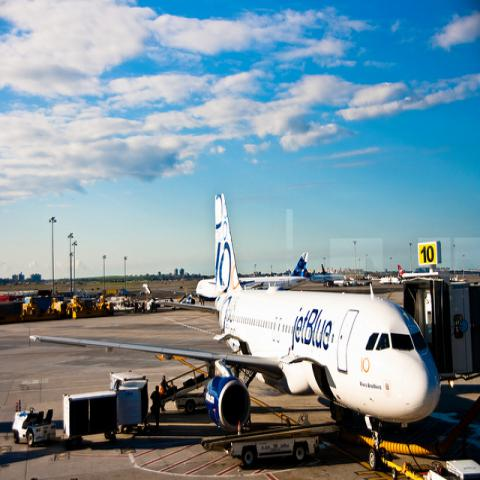truck: (63, 390, 118, 438)
